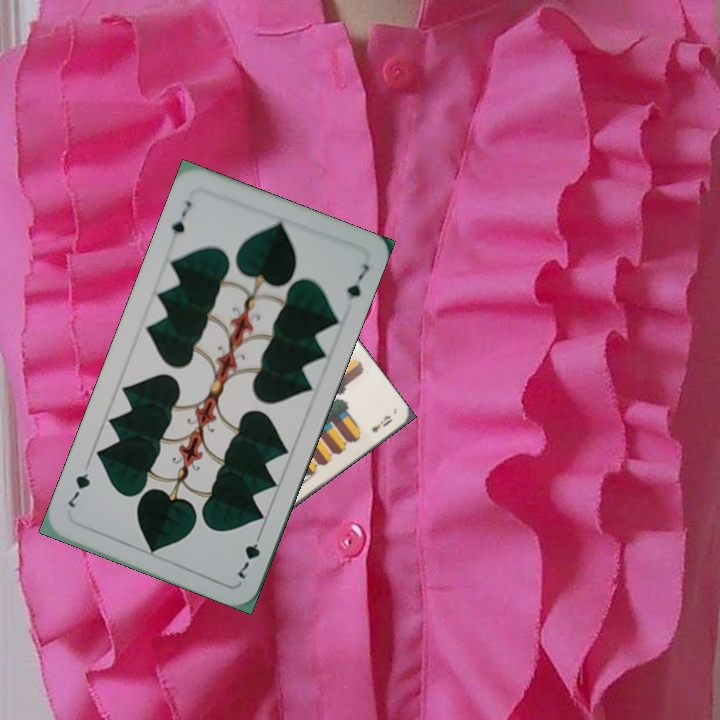G7: (233, 526, 265, 583), (167, 196, 194, 238)
